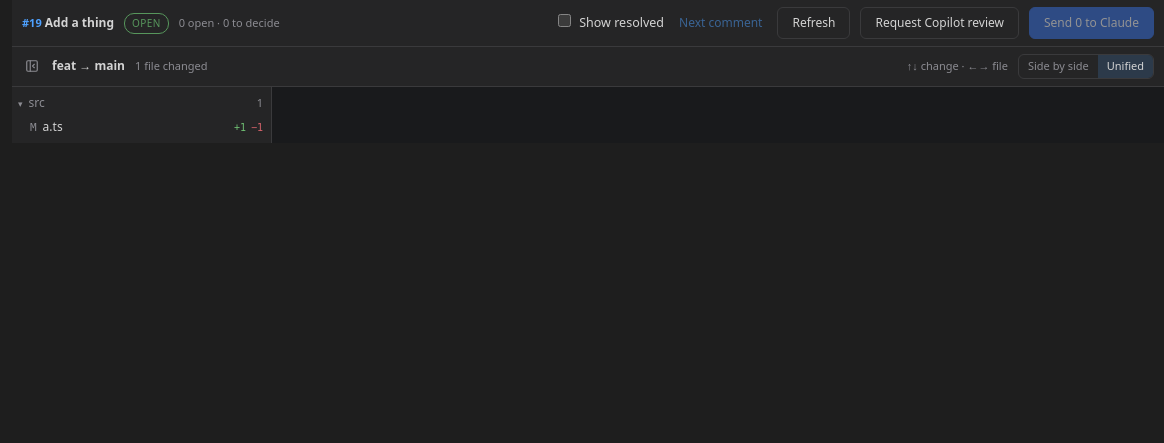
Test: Copilot › stops waiting on a review that lands before the first fetch
Click the button "Request Copilot review": (940,23) top-left (860, 7), bottom-right (1019, 39)
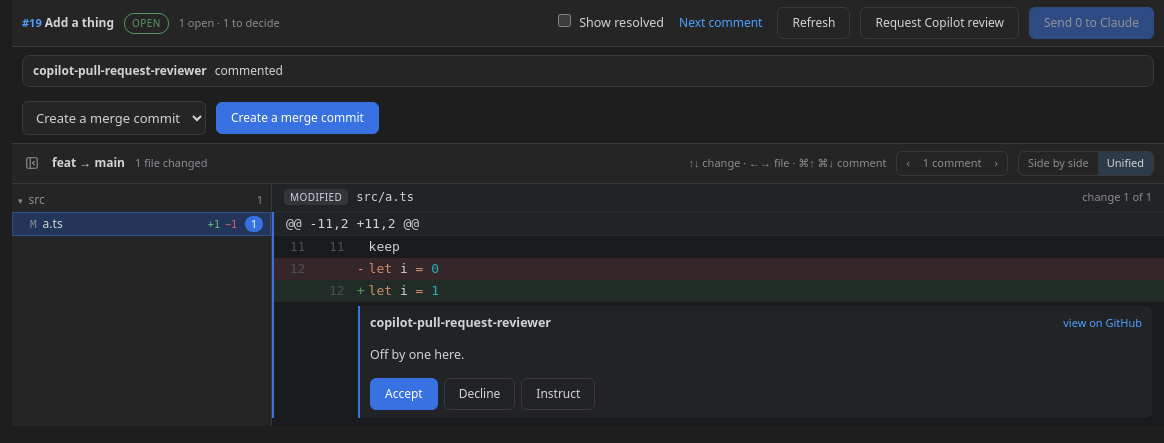
expect the text "Off by one here." is shown: met, box top-left (370, 346), bottom-right (464, 363)
